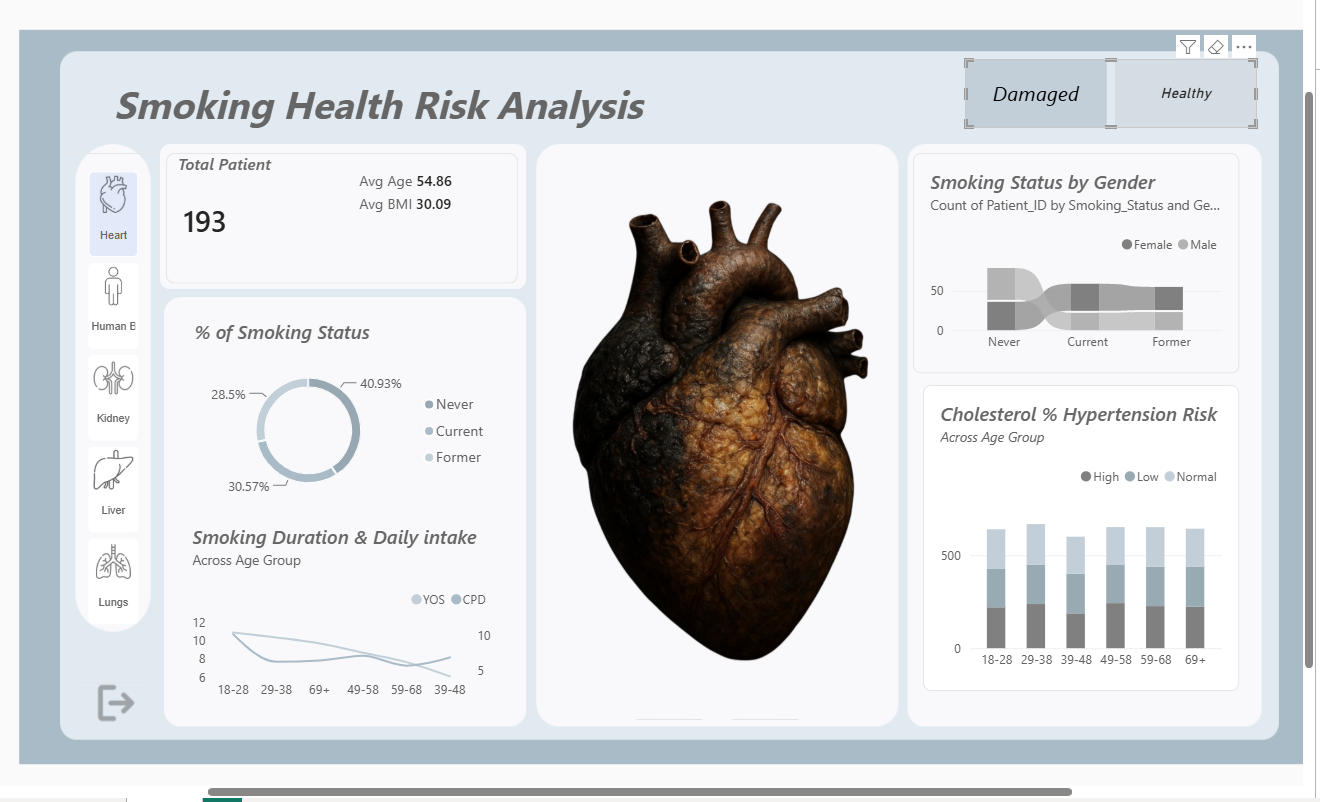

What the dashboard file says about the page in this screenshot:
{"tool":"powerbi","page":{"name":"Page 1","canvas":[1920,1080],"ordinal":0},"visuals":[{"type":"cardVisual","fields":{"Data":["CountNonNull(health_dataset.Patient_ID)"]},"box":[463.7,299,345.1,128.4],"z":0},{"type":"textbox","box":[475.5,299,125.5,35.3],"z":1000},{"type":"advancedSlicerVisual","fields":{"Values":["condition.Organ_Condition"]},"box":[1247.1,206.9,286.3,67.6],"z":2000},{"type":"ChicletSlicer1448559807354","fields":{"Category":["Organs.Organ"],"Image":["Organs.Icon_URL"]},"box":[367.6,299,89.2,519.6],"z":3000},{"type":"image","box":[837.3,299,339.2,554.9],"z":4000},{"type":"donutChart","title":"% of  Smoking Status","fields":{"Category":["health_dataset.Smoking_Status"],"Y":["CountNonNull(health_dataset.Smoking_Status)"]},"box":[475.5,447.1,324.5,208.8],"z":5000},{"type":"lineChart","title":"Smoking Duration & Daily intake","fields":{"Category":["health_dataset.Age Group"],"Y":["Avg(health_dataset.Years_of_Smoking)"],"Y2":["Avg(health_dataset.Cigarettes_Per_Day)"]},"box":[473.5,648,324.5,205.9],"z":6000},{"type":"ribbonChart","title":"Smoking Status by Gender","fields":{"Category":["health_dataset.Smoking_Status"],"Series":["health_dataset.Gender"],"Y":["CountNonNull(health_dataset.Patient_ID)"]},"box":[1196.1,299,319.6,215.7],"z":7000},{"type":"columnChart","title":"Cholesterol % Hypertension Risk","fields":{"Category":["health_dataset.Age Group"],"Series":["health_dataset.BP_Risk"],"Y":["Avg(health_dataset.Cholesterol_Level)"]},"box":[1205.9,526.5,309.8,300],"z":8000},{"type":"textbox","box":[412.7,206.9,547.1,109.8],"z":8001}]}

Visuals, with their boxes on the page's 1920x1080 design canvas (x1, y1, x2, y2). These are canvas units, not pixel positions in the 1320x802 screenshot, which may show the page scaled, cropped or inside an application window:
cardVisual - CountNonNull(health_dataset.Patient_ID): 464,299,809,427
textbox: 476,299,601,334
advancedSlicerVisual - condition.Organ_Condition: 1247,207,1533,274
ChicletSlicer1448559807354 - Organs.Organ x Organs.Icon_URL: 368,299,457,819
image: 837,299,1176,854
"% of  Smoking Status" donutChart: 476,447,800,656
"Smoking Duration & Daily intake" lineChart: 474,648,798,854
"Smoking Status by Gender" ribbonChart: 1196,299,1516,515
"Cholesterol % Hypertension Risk" columnChart: 1206,526,1516,826
textbox: 413,207,960,317
